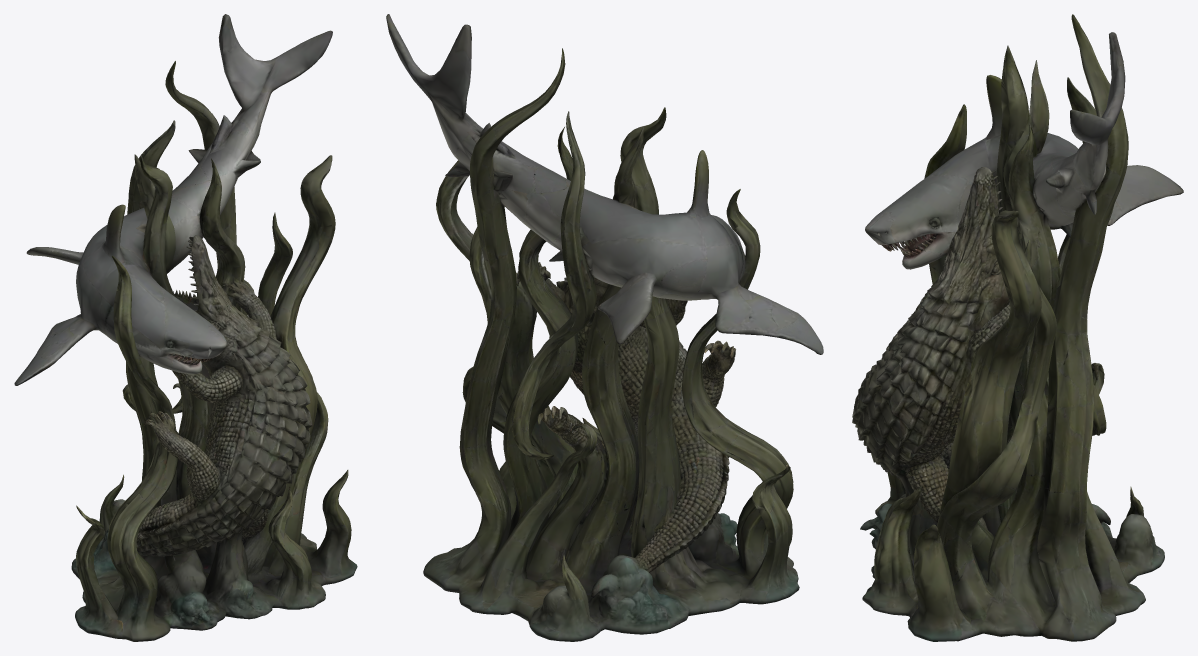
Rendered from suro-boyo.glb.
3 views of the same model, side by side, from view 1: azimuth 30°, elevation 25°; view 2: azimuth 150°, elevation 25°; view 3: azimuth 270°, elevation 25° (orthographic). The views are drawn at different scales.
Parts seen in each view (by area): view 1: Object_2; view 2: Object_2; view 3: Object_2.
Part boxes in pixels (x1,y1,x2,y2): Object_2: (14,14,357,641); Object_2: (386,14,823,641); Object_2: (852,14,1183,641).
Bounding box in the file's own units: 1.01 × 1.4 × 0.7215.
1 material, 1 textured.
